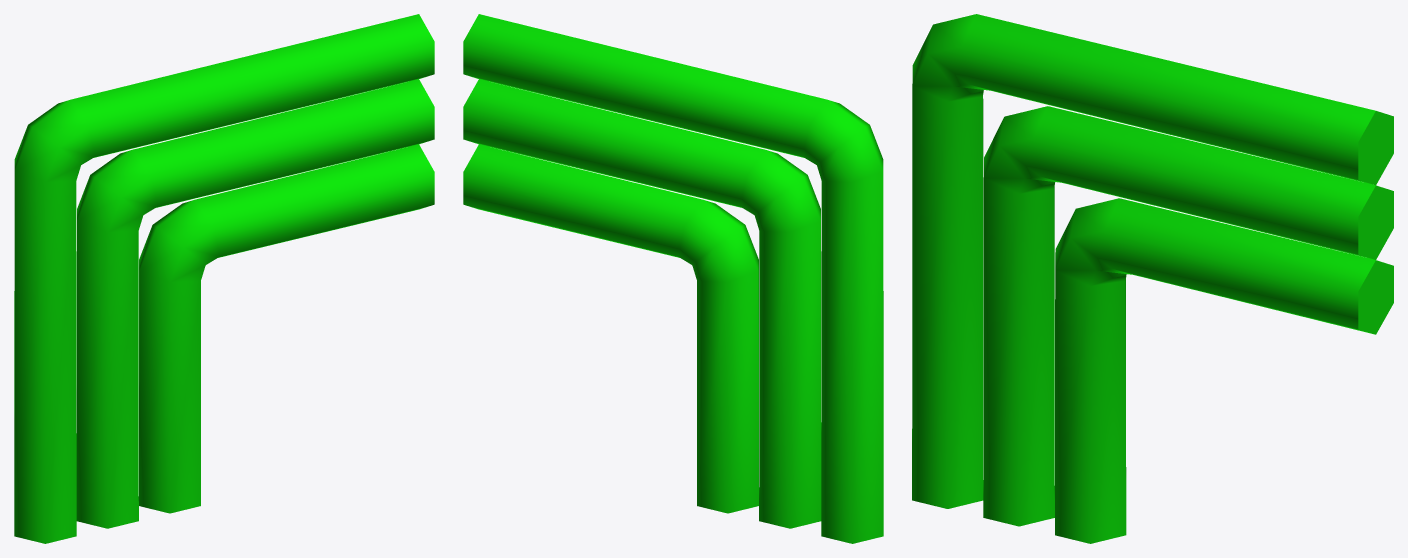
3 renders of one model, left to right at view 1: azimuth 30°, elevation 25°; view 2: azimuth 150°, elevation 25°; view 3: azimuth 330°, elevation 25°, orthographic. The views are drawn at different scales.
Visible parts, largest first — view 1: Plane.589; view 2: Plane.589; view 3: Plane.589.
Boxes of the visible parts, x1,y1,x2,y2 form: Plane.589: (14, 14, 434, 543); Plane.589: (463, 14, 883, 543); Plane.589: (912, 14, 1393, 543).
Bounding box in the file's own units: 0.13 × 0.13 × 0.0173.
